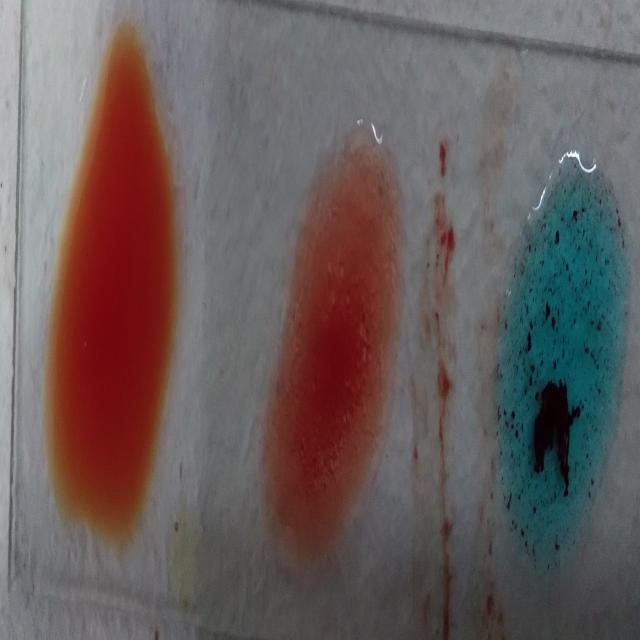A: (493, 142, 622, 575)
D: (268, 156, 393, 548)
